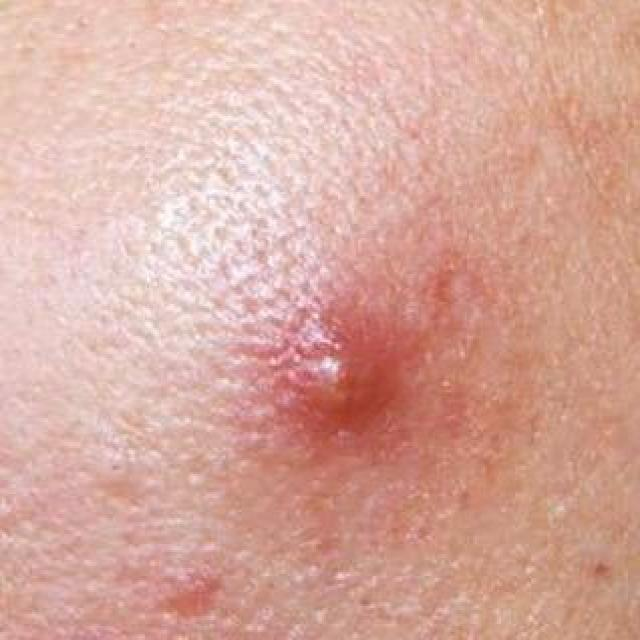nodule: (234, 303, 406, 466)
